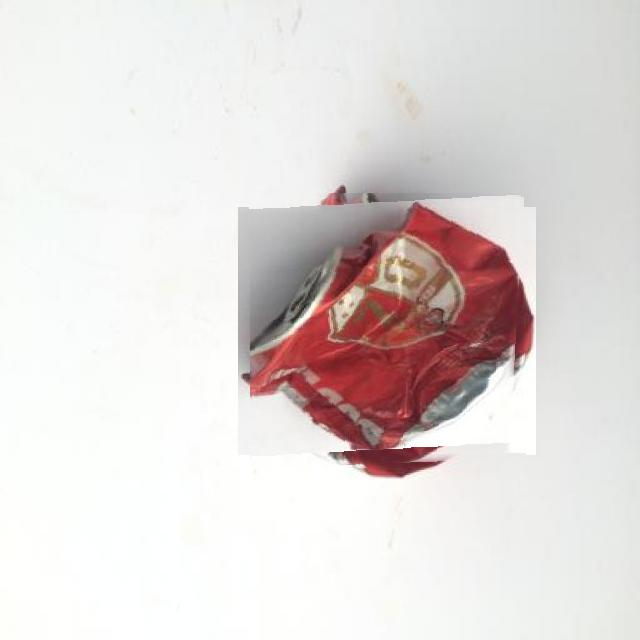recyclable: (250, 193, 525, 469)
